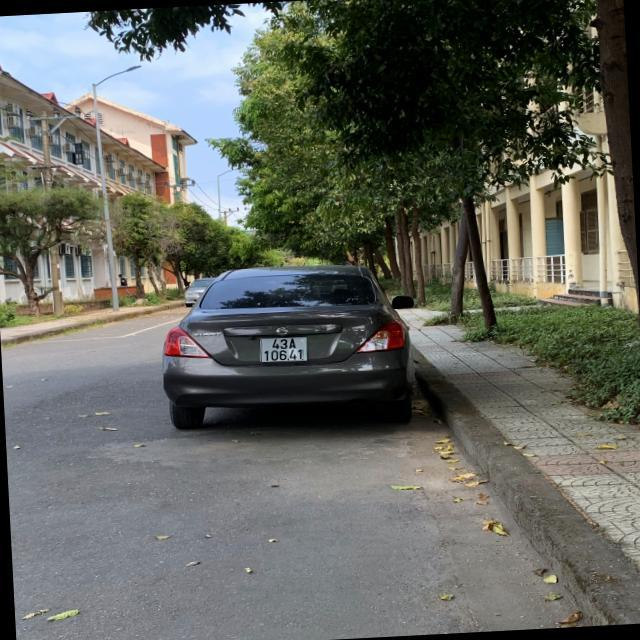car: (158, 261, 412, 439)
plate: (256, 331, 312, 368)
